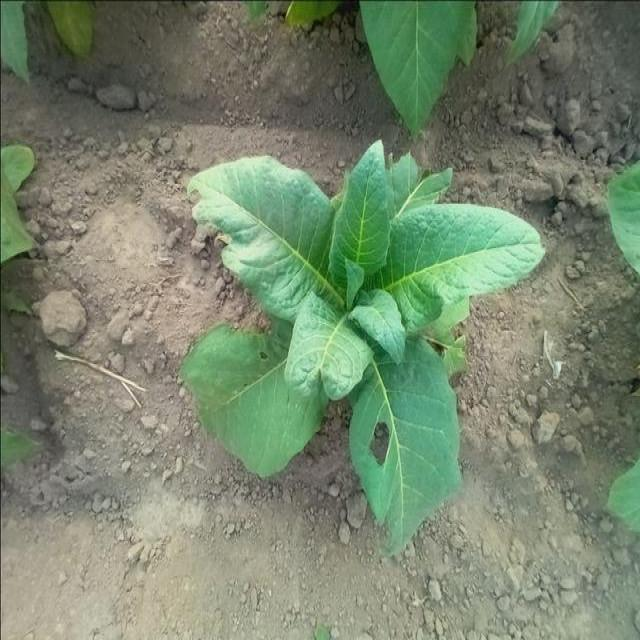crop: (186, 154, 543, 557)
